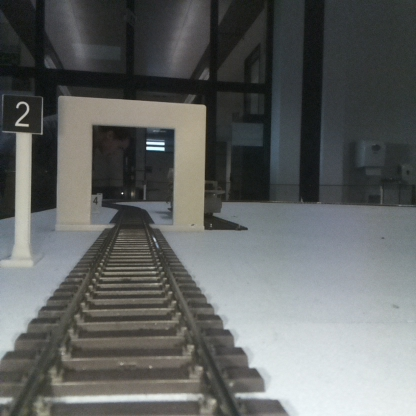black-info-2: (2, 94, 42, 267)
white-stop-4: (91, 193, 102, 214)
